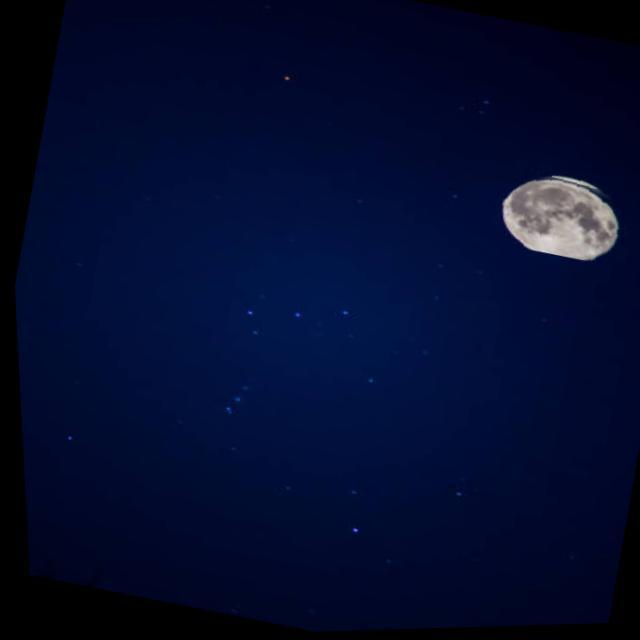moon: (484, 164, 630, 273)
